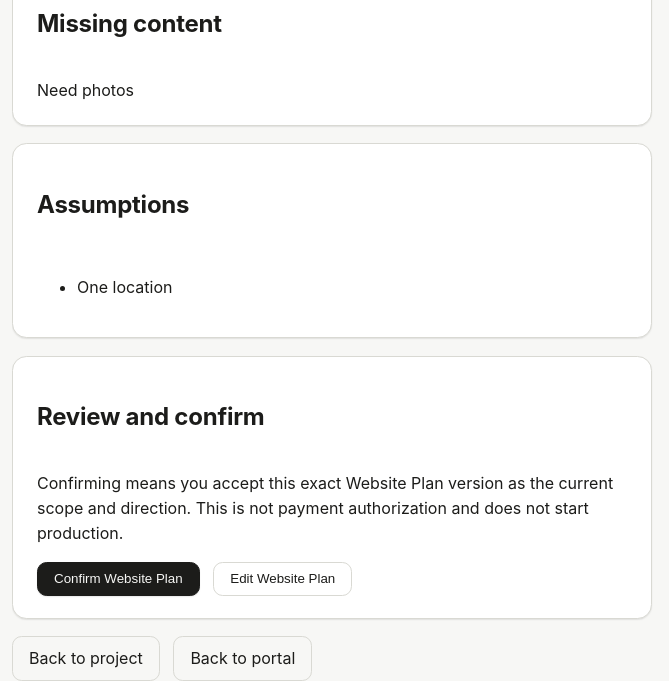
Scenario: WebsitePlanPanel › removes the final custom requirement as an empty array
(page scrolled)
Click the button "Edit Website Plan". click: (283, 579)
box: [213, 562, 352, 596]
(page scrolled)
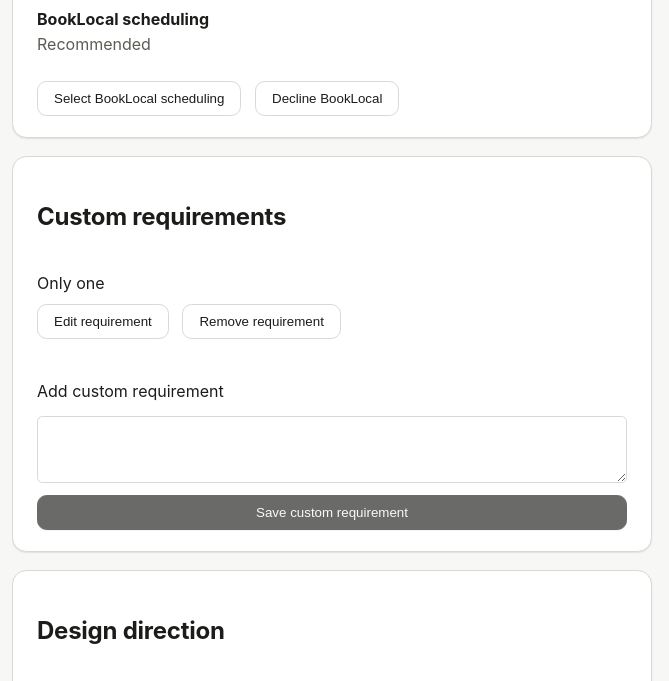
Click the button "Remove requirement". click: (262, 322)
box: [182, 304, 341, 339]
(page scrolled)
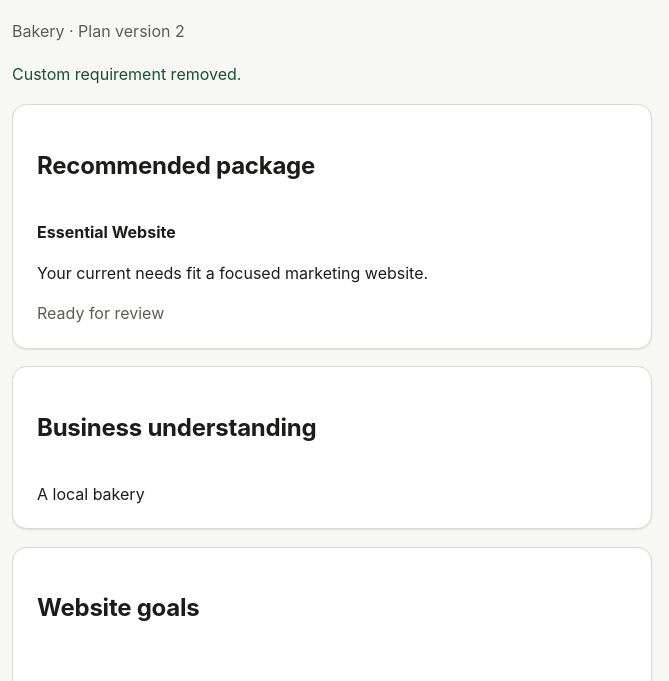
Expected: the text "Essential Website" is shown, [37, 222, 176, 242]
